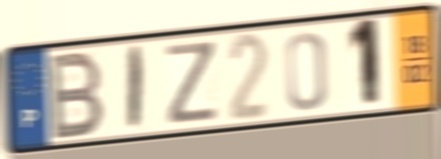0: (284, 29, 330, 114)
1: (345, 16, 383, 113)
2: (227, 30, 272, 125)
B: (48, 48, 107, 144)
I: (126, 43, 146, 134)
Z: (164, 38, 220, 128)
